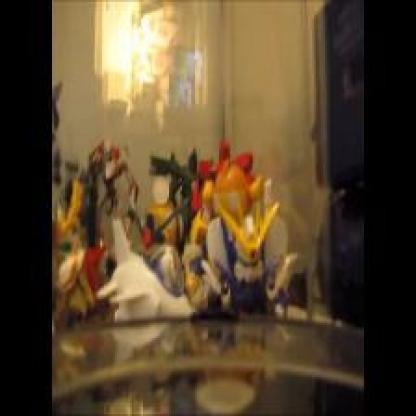other: (197, 142, 271, 244), (112, 14, 172, 92)
